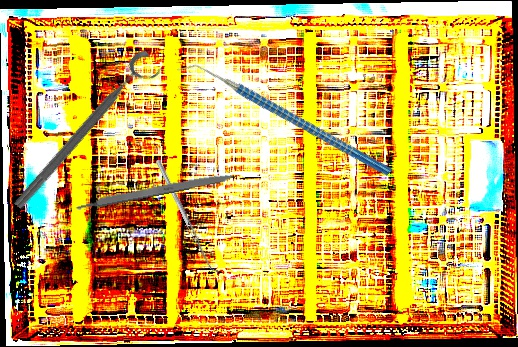Chopper: (176, 7, 393, 233)
Fixation Ring: (9, 47, 166, 221)
Scalpel Handle: (74, 169, 237, 212)
Spatula Surgical: (155, 157, 220, 276)
